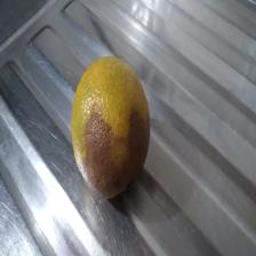Orange Semirotten: (60, 58, 155, 199)
